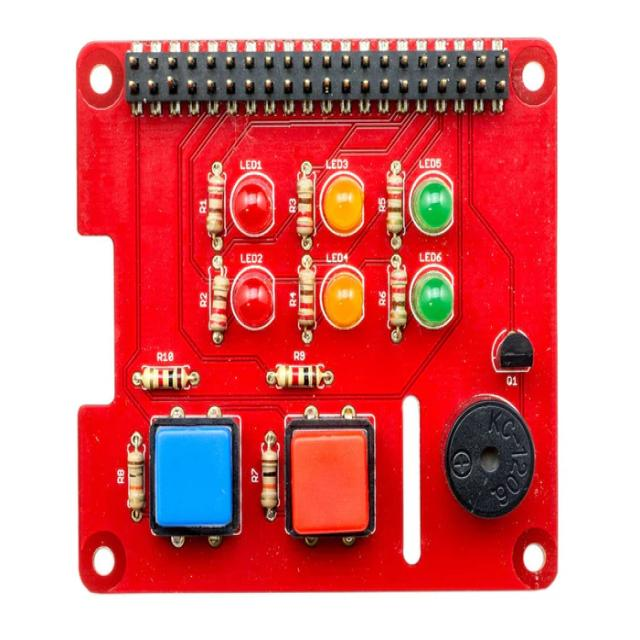2235: (282, 414, 376, 540), (152, 417, 240, 542)
LED: (229, 175, 278, 241), (324, 264, 368, 334), (412, 260, 454, 328), (322, 171, 363, 240), (413, 173, 453, 234), (238, 270, 274, 326)
buzzer: (445, 398, 536, 520)
connector -5v-: (123, 47, 509, 112)
resistor IR1: (130, 352, 188, 394), (257, 436, 279, 524), (204, 166, 228, 234), (294, 172, 318, 237), (207, 270, 230, 337), (124, 441, 143, 520), (296, 267, 317, 330), (387, 172, 407, 238), (268, 366, 324, 388), (386, 267, 406, 327)
